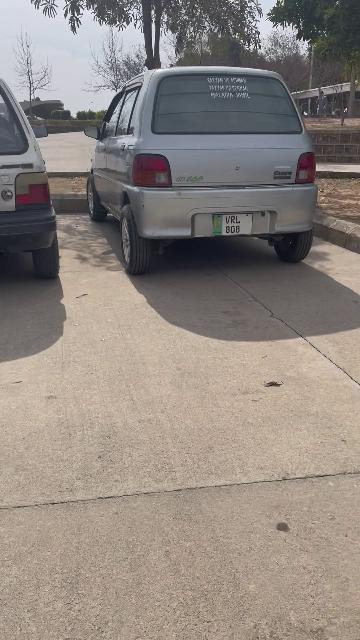plate: (212, 213, 254, 237)
